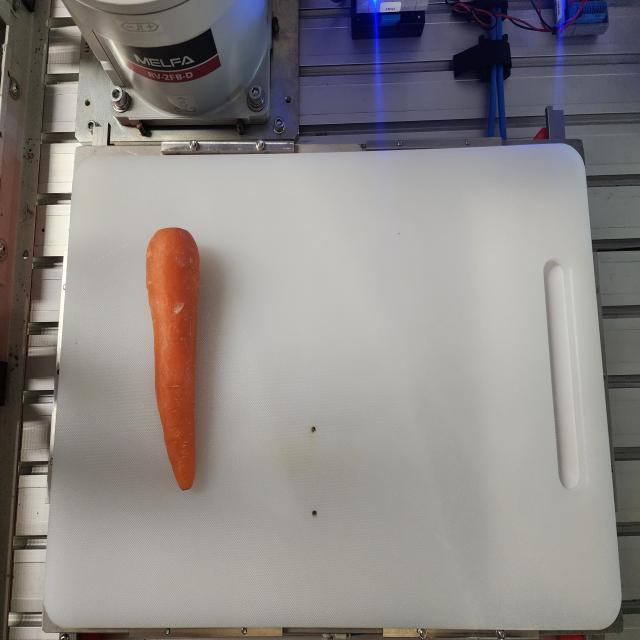carrot: (145, 227, 200, 490)
